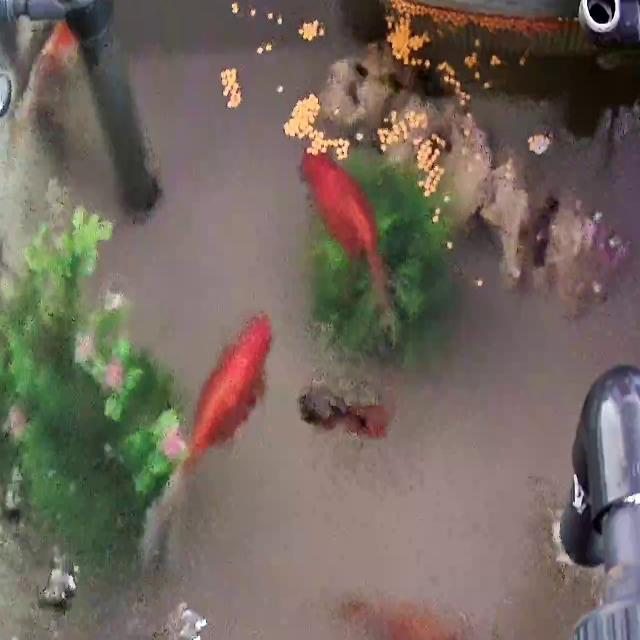fish: (132, 313, 272, 567), (299, 146, 414, 337), (21, 21, 83, 136), (298, 386, 412, 446), (343, 592, 453, 640)
